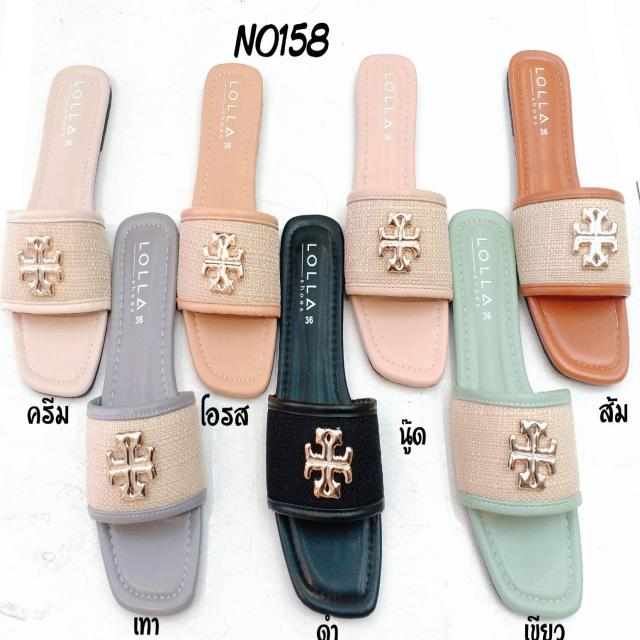black: (259, 226, 392, 617)
cream: (0, 45, 117, 408)
green: (446, 205, 580, 629)
grey: (83, 202, 210, 614)
nood: (337, 31, 458, 398)
orange: (515, 34, 640, 375)
orot: (178, 47, 286, 392)
